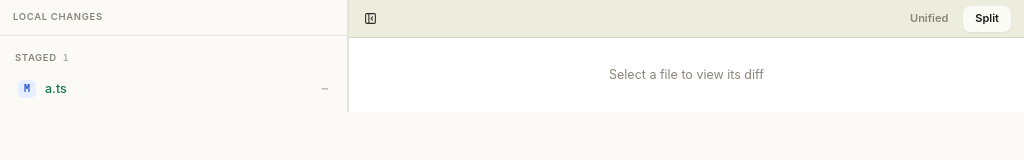
LocalChangesTab › diff header shows the selected file's status badge (§2.5)
Click the text "a.ts": (56, 89) [45,80,67,98]
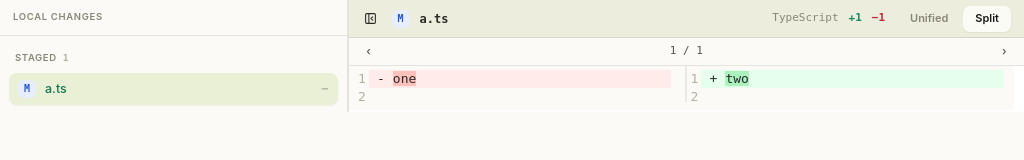
Expected: the element "Unified" is shown, [349,0,1023,38]
Result: the text "M" in the row of "TypeScript" is shown at [398,13,404,24]
